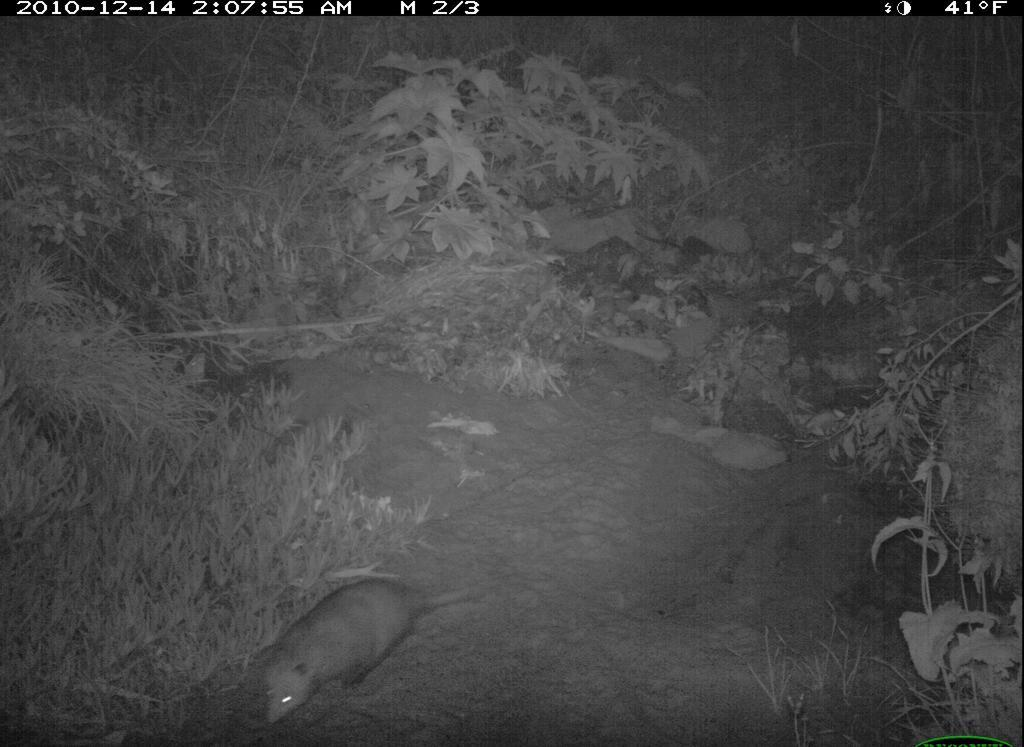opossum: (250, 568, 472, 730)
